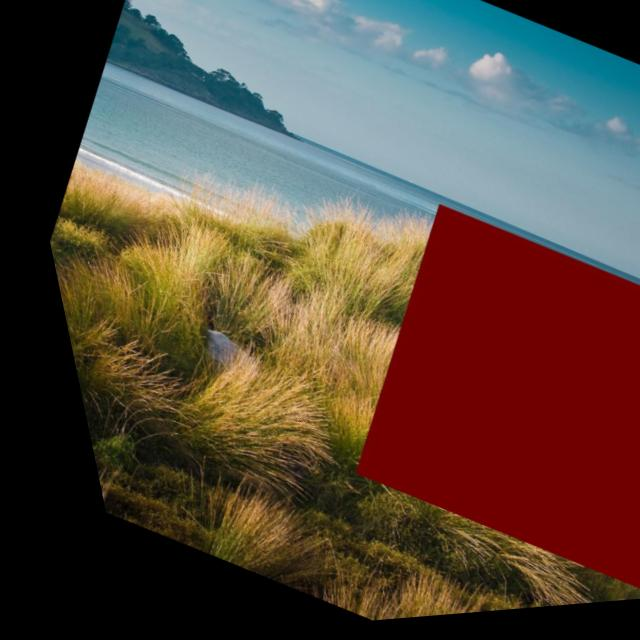RedSquare: (283, 187, 640, 621)
